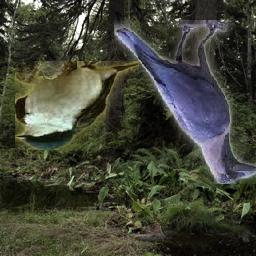Crow: (114, 20, 256, 184)
Swallow: (15, 62, 139, 151)
